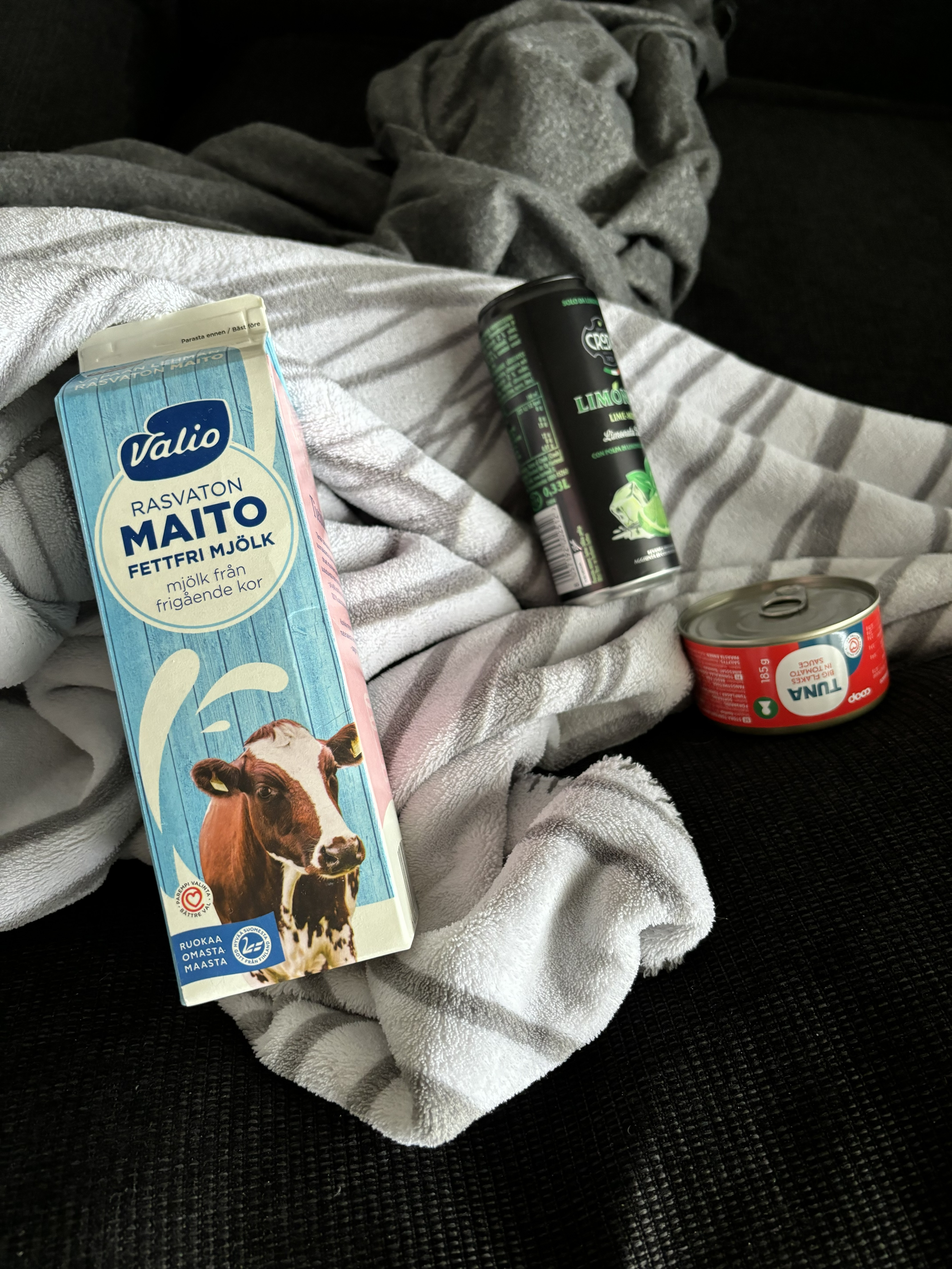Dryckeskartong: (27, 292, 416, 1034)
Konservburk: (678, 576, 898, 736)
Pantburk: (455, 272, 681, 642)
